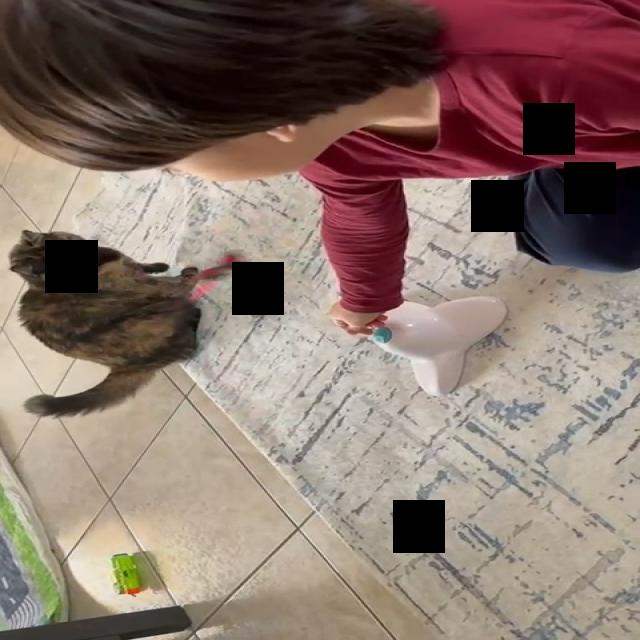authorized: (7, 229, 241, 417)
